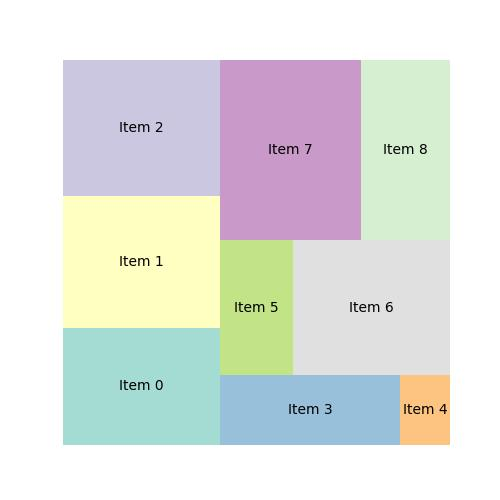rectangle: (219, 58, 362, 240), (62, 59, 220, 195), (61, 195, 221, 327), (293, 240, 449, 374), (62, 327, 219, 444), (361, 59, 451, 241), (219, 376, 399, 444), (219, 240, 294, 375), (398, 374, 450, 445)
